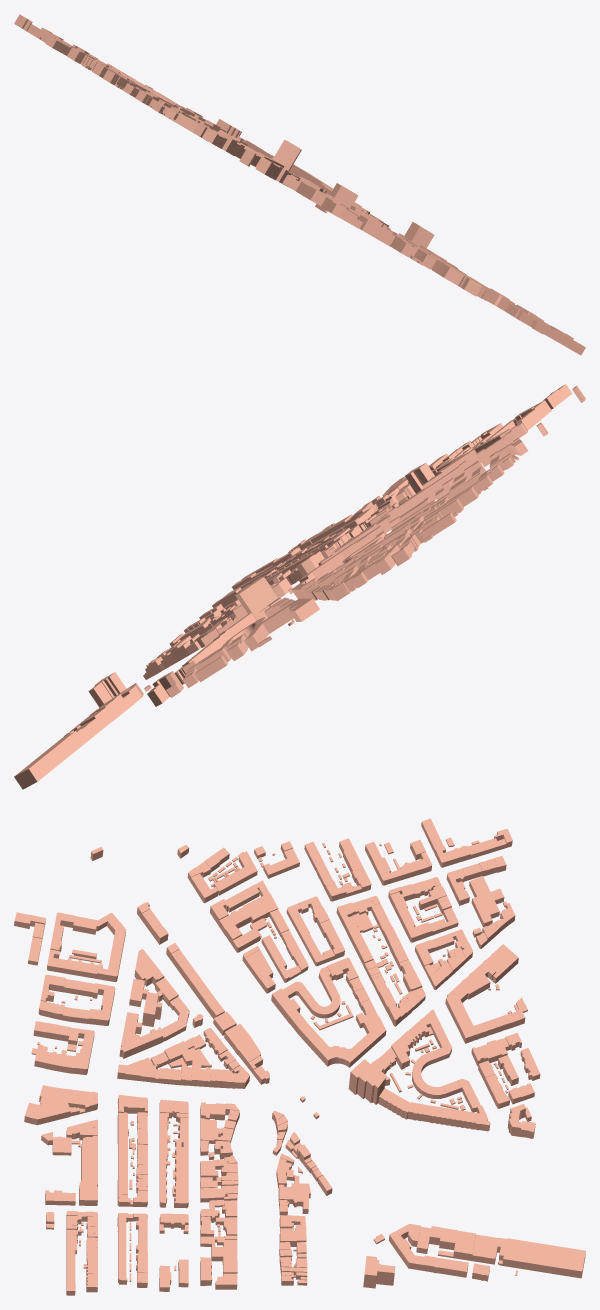
3 views of the same model, one above another, from view 1: azimuth 30°, elevation 25°; view 2: azimuth 150°, elevation 25°; view 3: azimuth 270°, elevation 25° (orthographic). The views are drawn at different scales.
Bounding box in the file's own units: 544 × 399 × 699.
